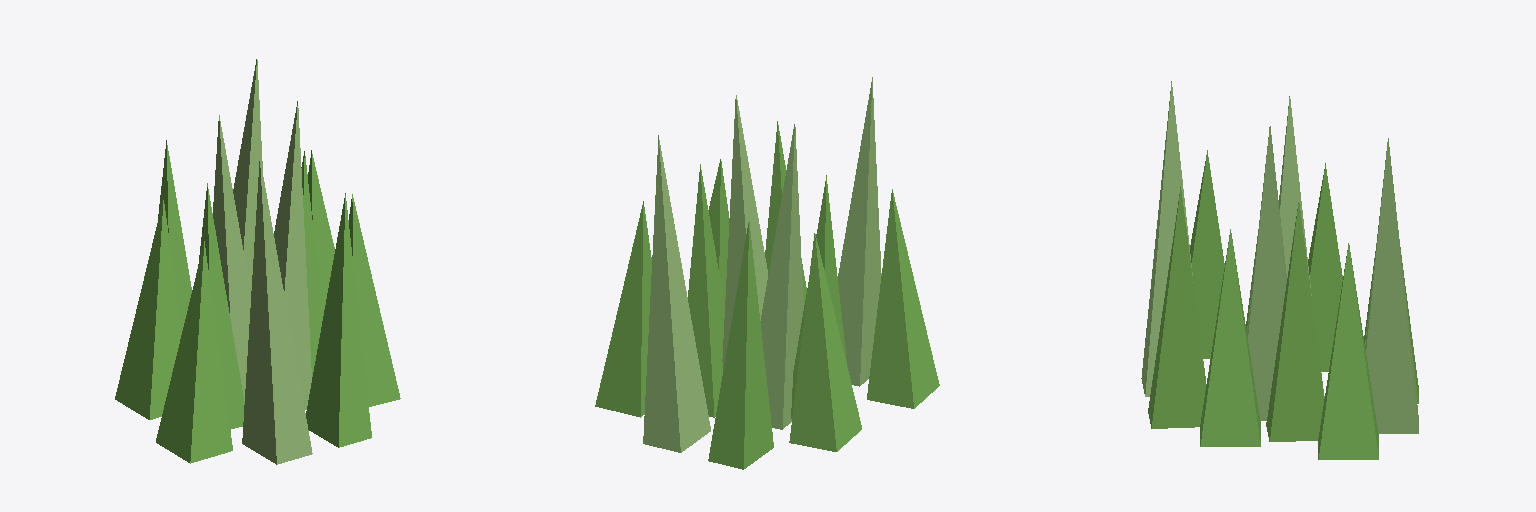
The picture shows the model from 3 angles: view 1: azimuth 30°, elevation 25°; view 2: azimuth 150°, elevation 25°; view 3: azimuth 270°, elevation 25°; orthographic projection.
Parts seen in each view (by area): view 1: Duplicate20, Regroup08; view 2: Regroup08, Duplicate20; view 3: Regroup08, Duplicate20.
Part boxes in pixels (x1,y1,x2,y2): Duplicate20: (156,101,400,464); Regroup08: (115,59,334,419); Regroup08: (595,124,861,469); Duplicate20: (708,77,939,418); Regroup08: (1266,96,1418,459); Duplicate20: (1141,81,1286,446).
Bounding box in the file's own units: 14.47 × 17.06 × 14.08.
1 materials, 1 textured.